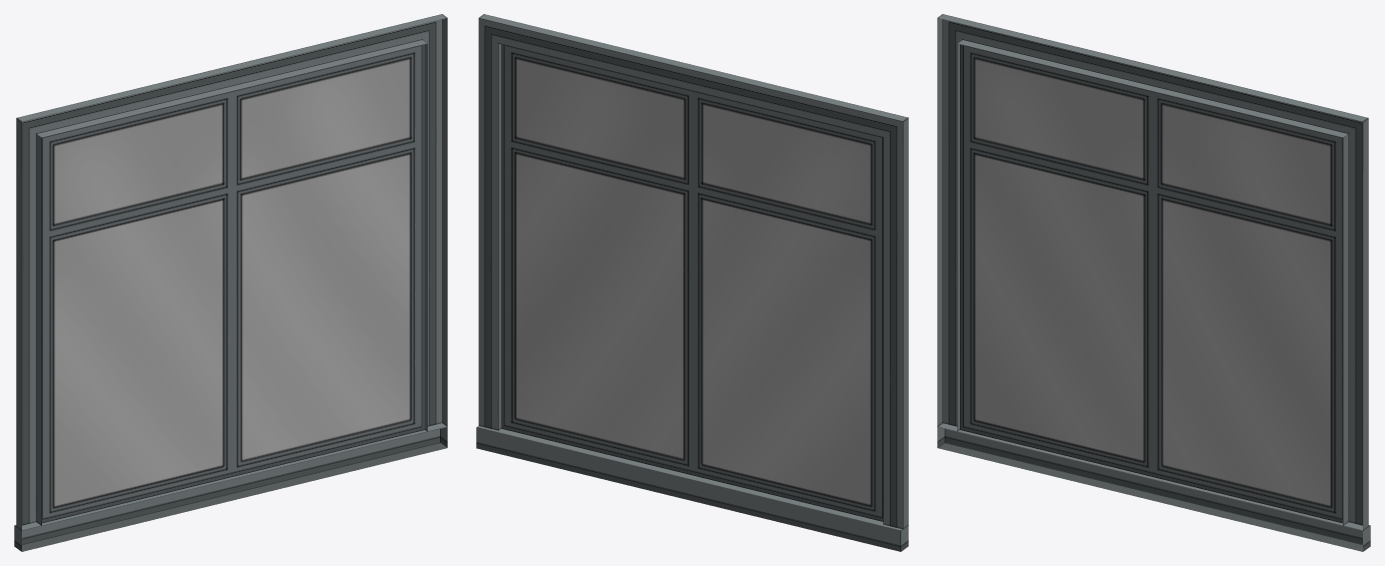
The model's file is window_cloudy.fbx.
3 renders of one model, left to right at view 1: azimuth 30°, elevation 25°; view 2: azimuth 150°, elevation 25°; view 3: azimuth 330°, elevation 25°, orthographic.
Parts seen in each view (by area): view 1: polySurface409; view 2: polySurface409; view 3: polySurface409.
Part boxes in pixels (x1,y1,x2,y2): polySurface409: [14, 14, 447, 551]; polySurface409: [476, 14, 908, 551]; polySurface409: [937, 14, 1370, 551].
Size of the model in its own units: 2.73 by 2.63 by 0.0849.
